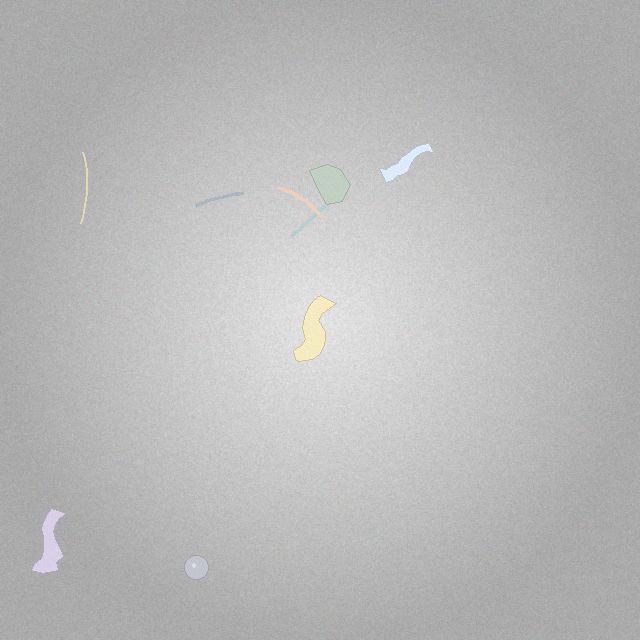fiber: (273, 182, 325, 221), (288, 198, 335, 240), (190, 189, 249, 212), (78, 149, 90, 226)
film: (294, 296, 337, 361), (32, 509, 67, 573), (379, 143, 434, 182)
fragment: (309, 164, 350, 205)
pellet: (185, 556, 208, 580)
